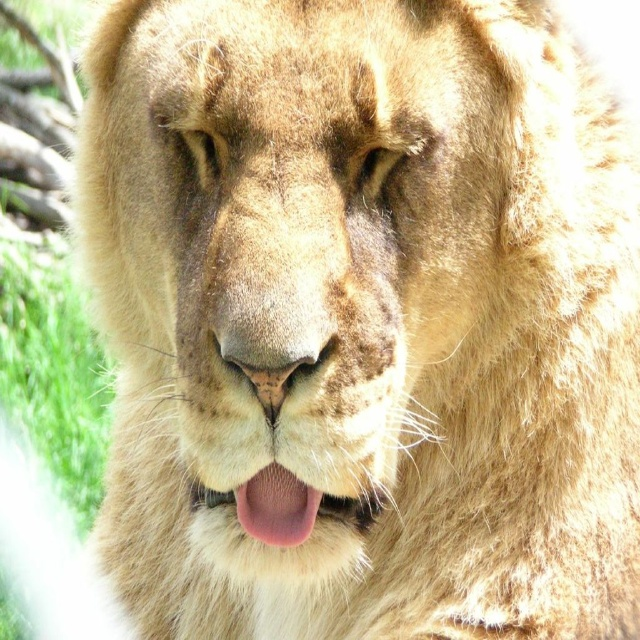Lion: (45, 0, 640, 640)
